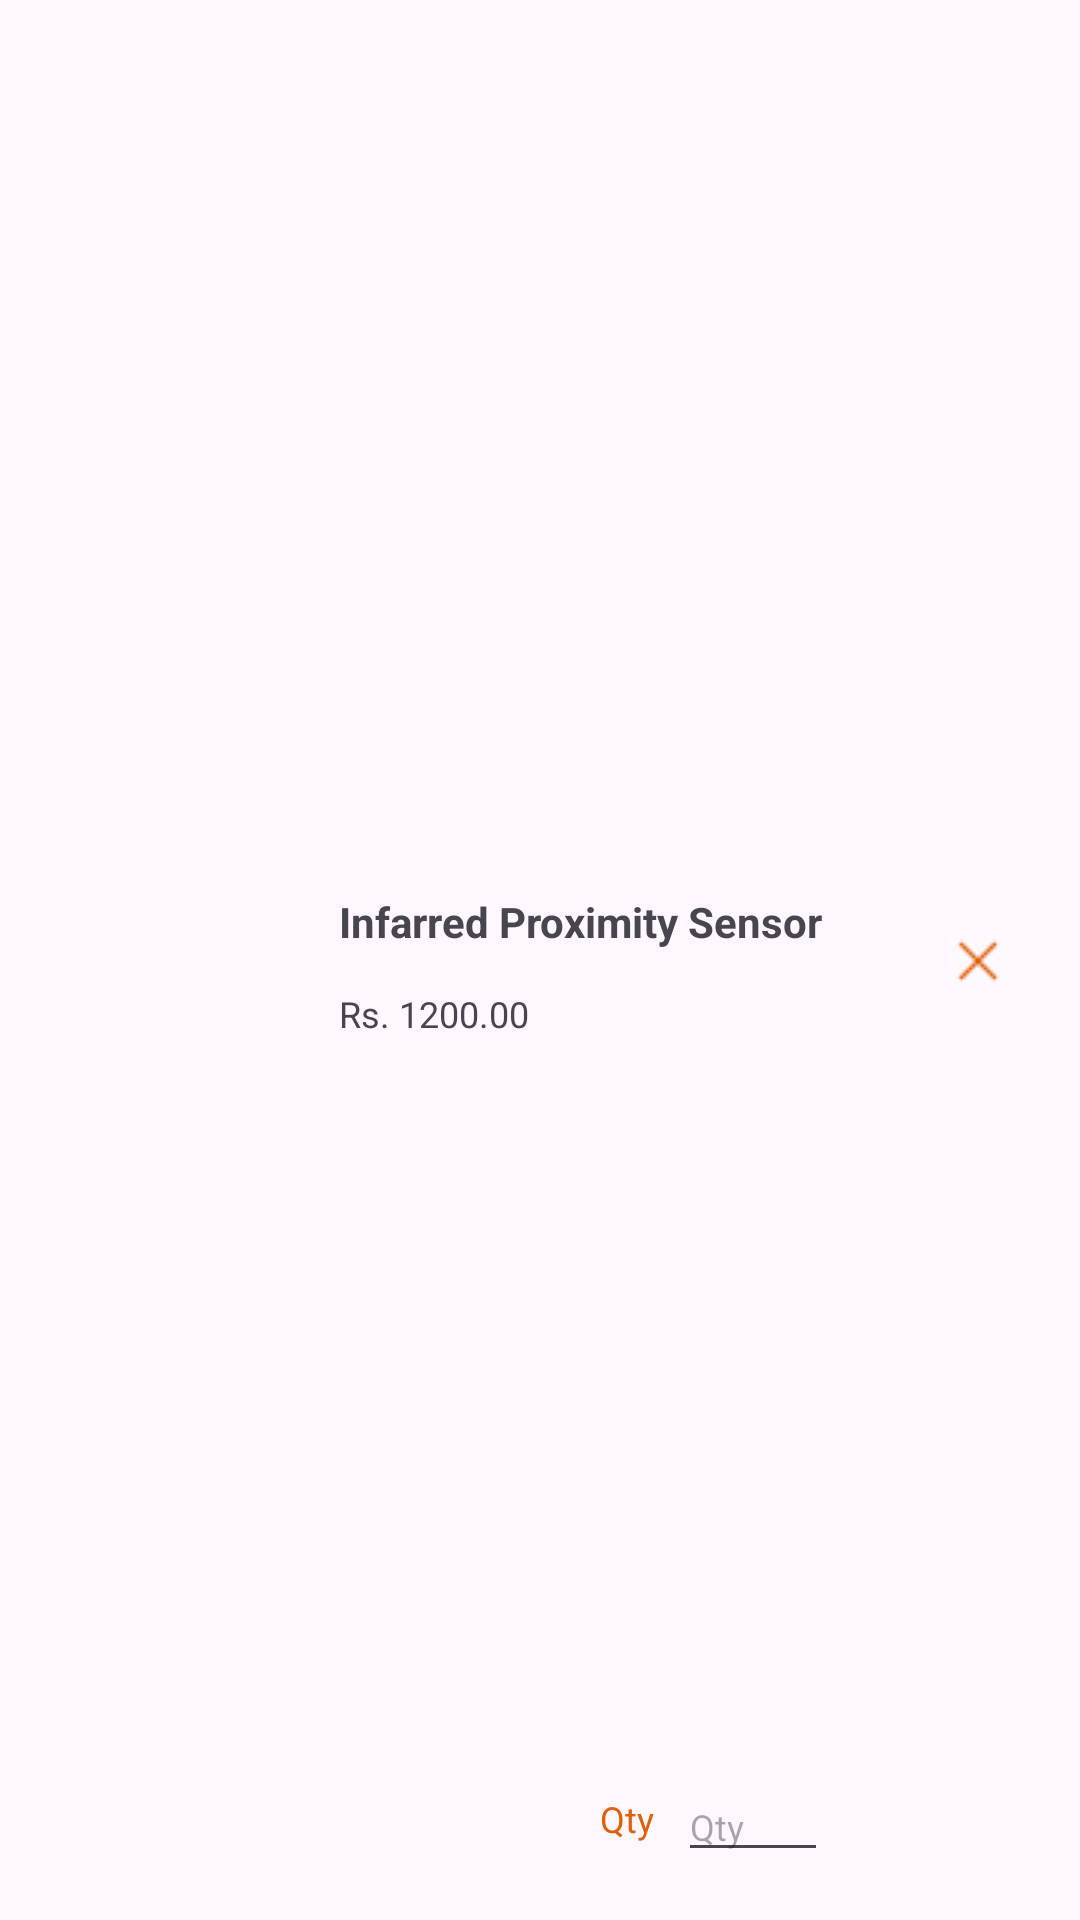

Named icons in this screenshot (1080w x 1920h) and their bounding boxes, (x1, y1, x2, y2):
cross: (957, 940, 999, 982)
